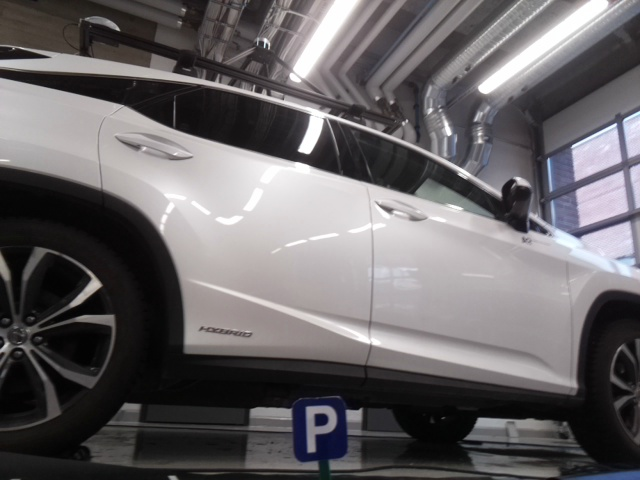Parking: (290, 397, 346, 461)
